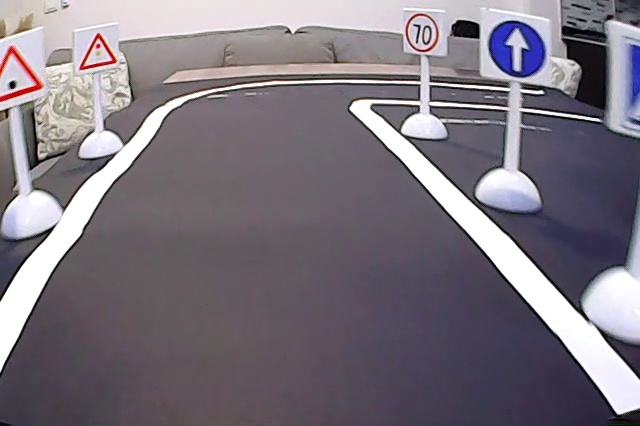green light: (1, 34, 40, 112)
red light: (75, 30, 117, 72)
speed limit 70: (405, 13, 444, 53)
